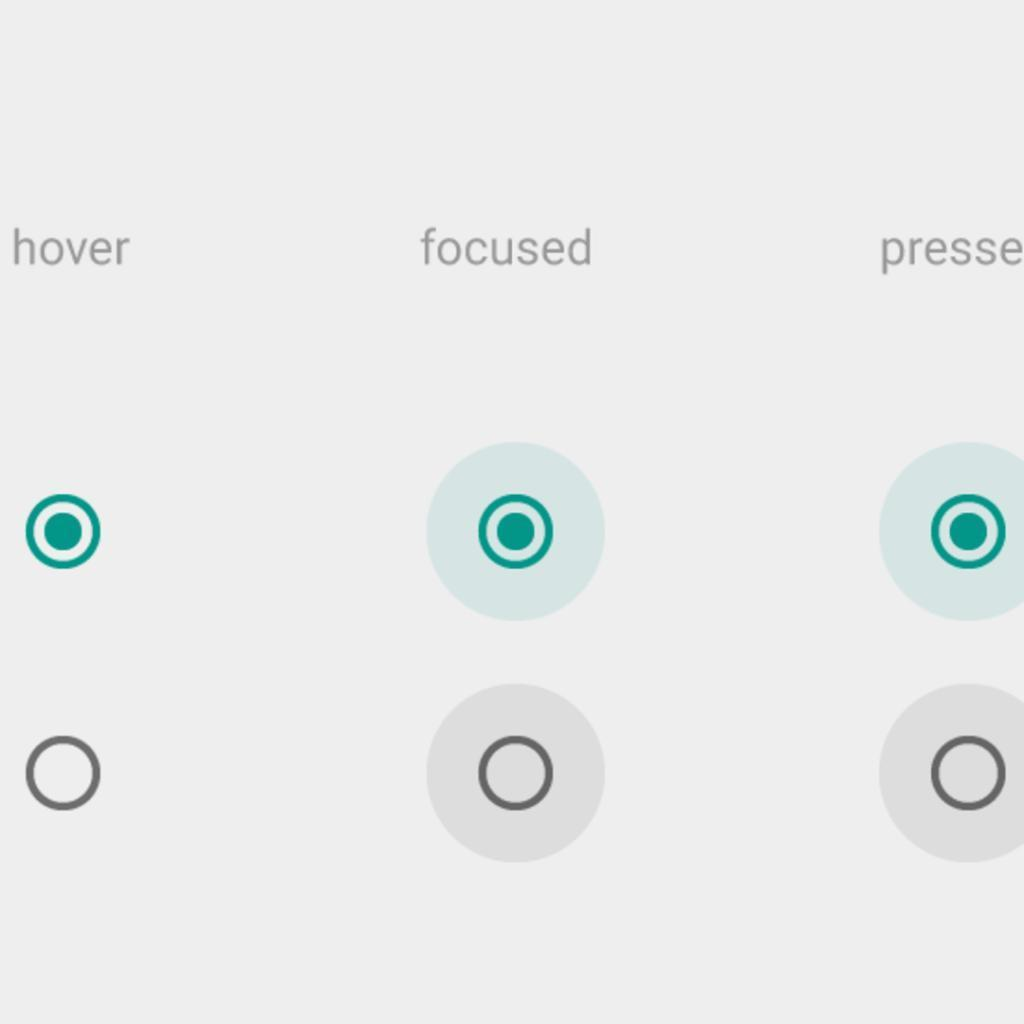radio: (423, 438, 613, 614), (419, 685, 613, 852), (873, 672, 1024, 866), (874, 434, 1024, 627), (19, 723, 109, 819), (17, 484, 107, 579)
